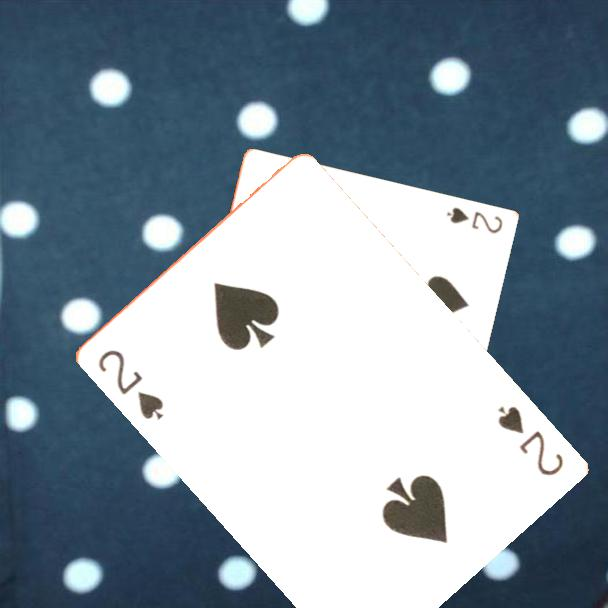s02: (493, 402, 566, 479), (94, 345, 166, 423), (443, 204, 505, 237)
